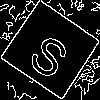S: (25, 25, 78, 82)
